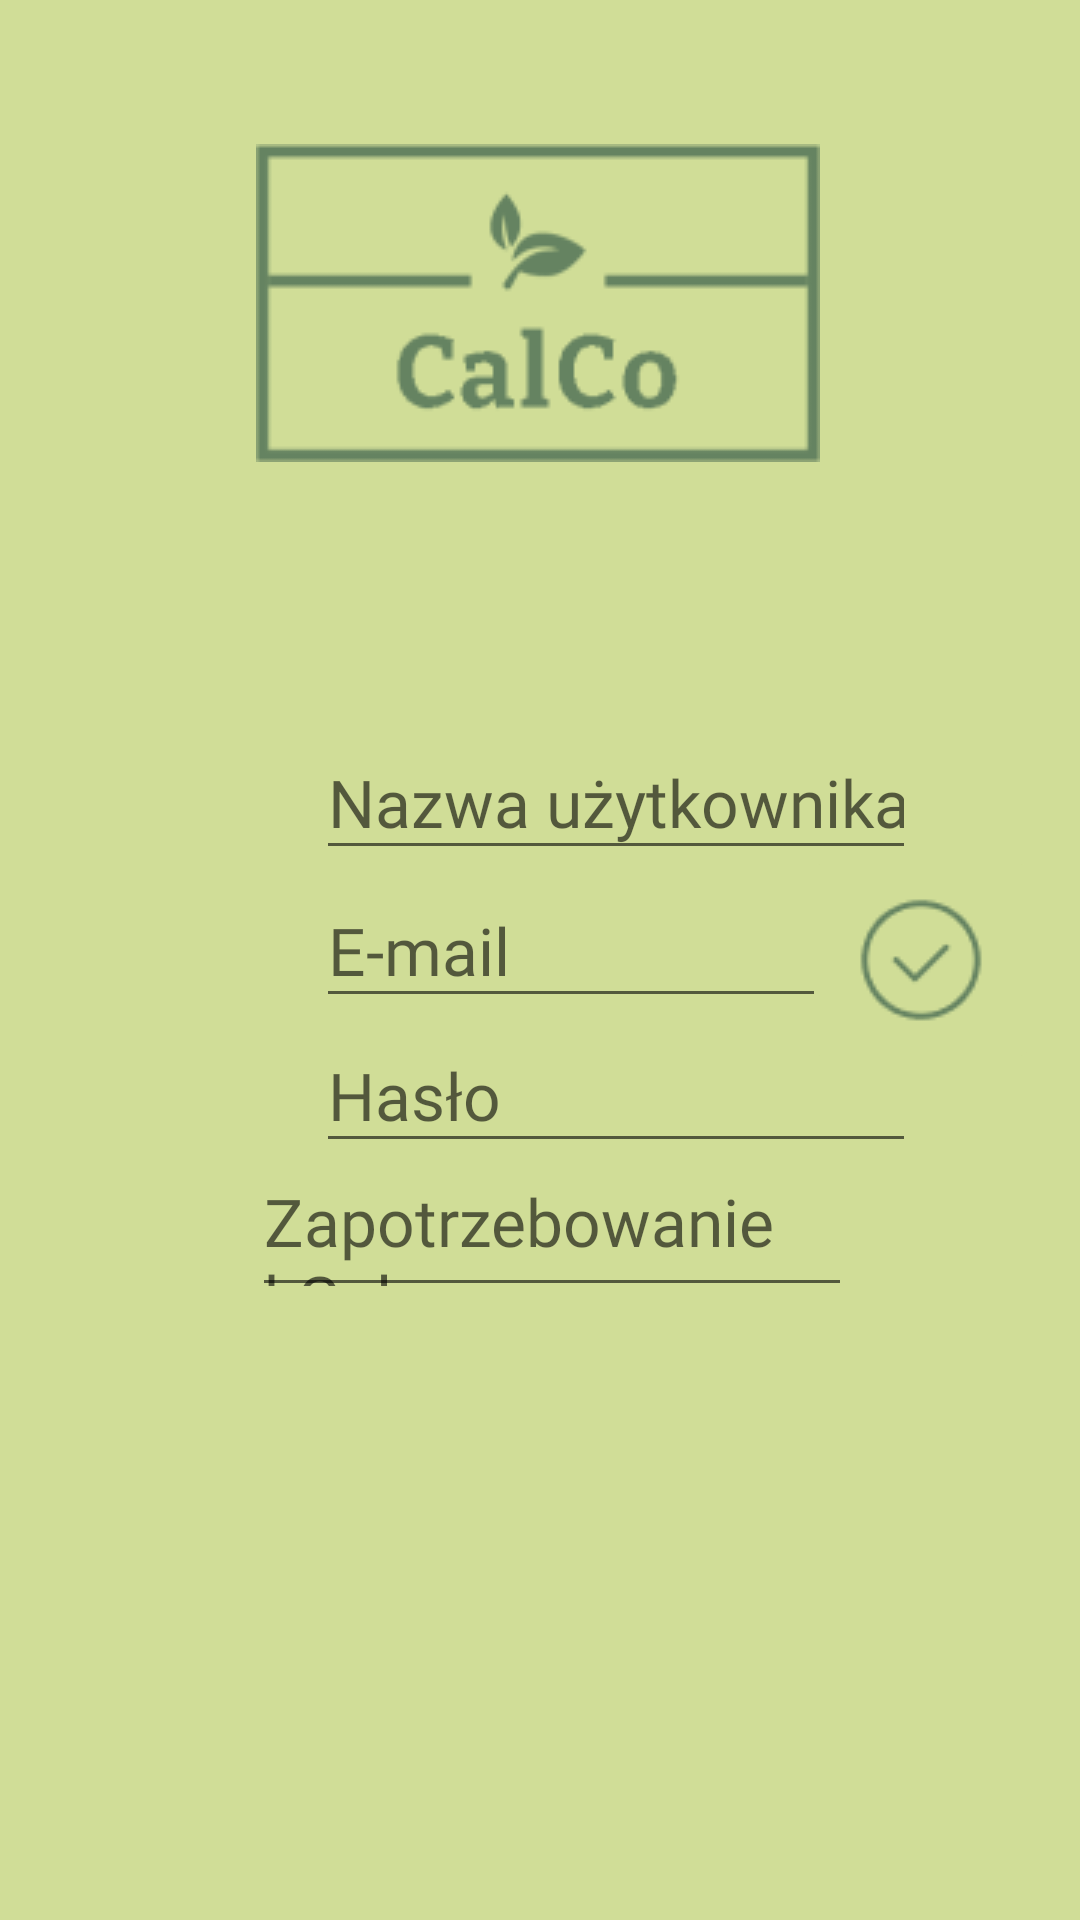

Icons on this 1080*1920 Android screen, each with its box as (x1, y1, x2, y2):
line md confirm circle: (860, 899, 982, 1021)
